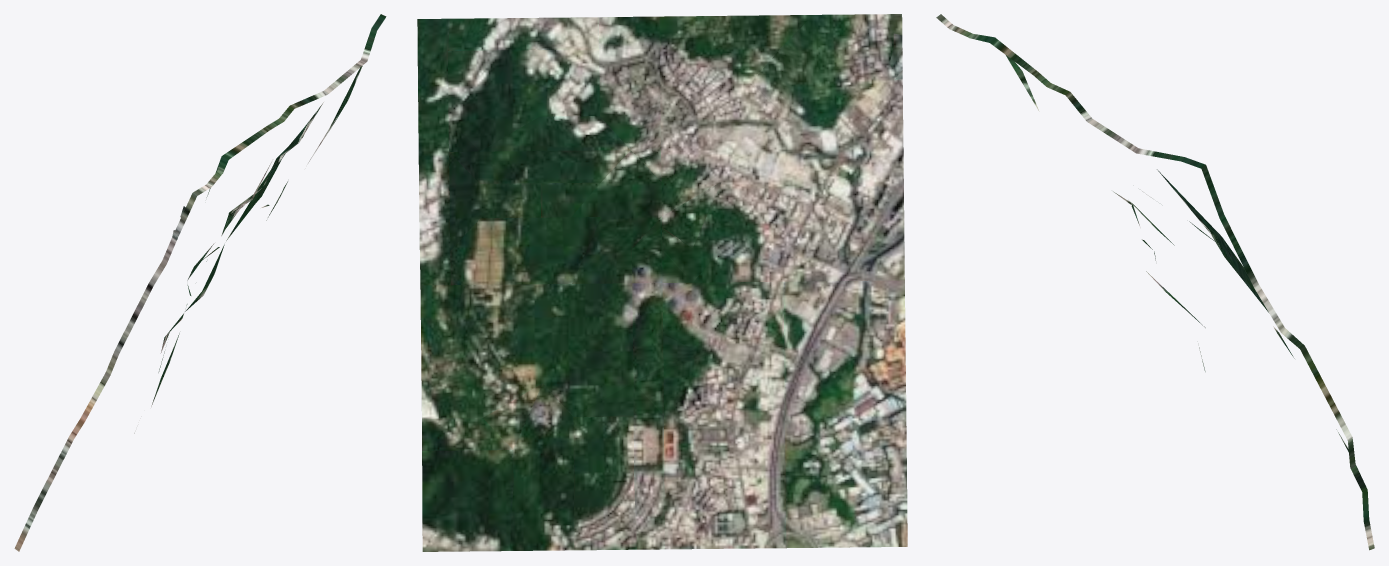
3 views of the same model, side by side, from view 1: azimuth 30°, elevation 25°; view 2: azimuth 150°, elevation 25°; view 3: azimuth 270°, elevation 25° (orthographic). The views are drawn at different scales.
Size of the model in its own units: 2384 by 2286 by 2092.
Materials: 1 (1 with a texture image).
